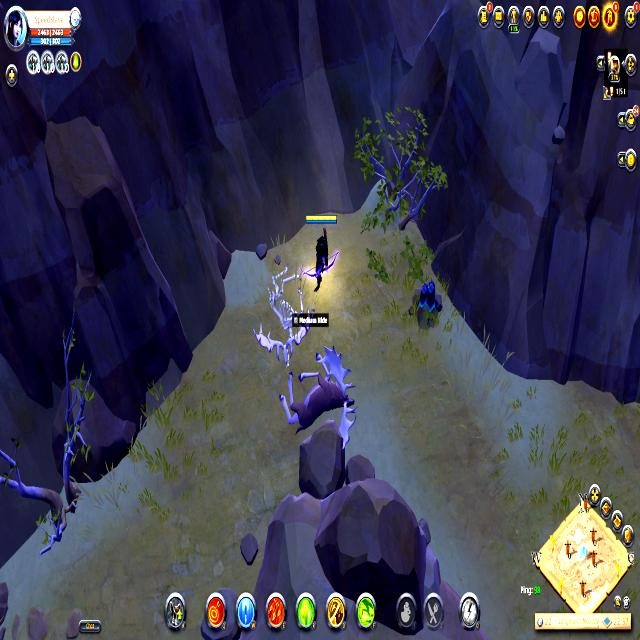mob: (277, 346, 359, 442)
player: (406, 276, 447, 338)
red: (303, 210, 339, 292)
